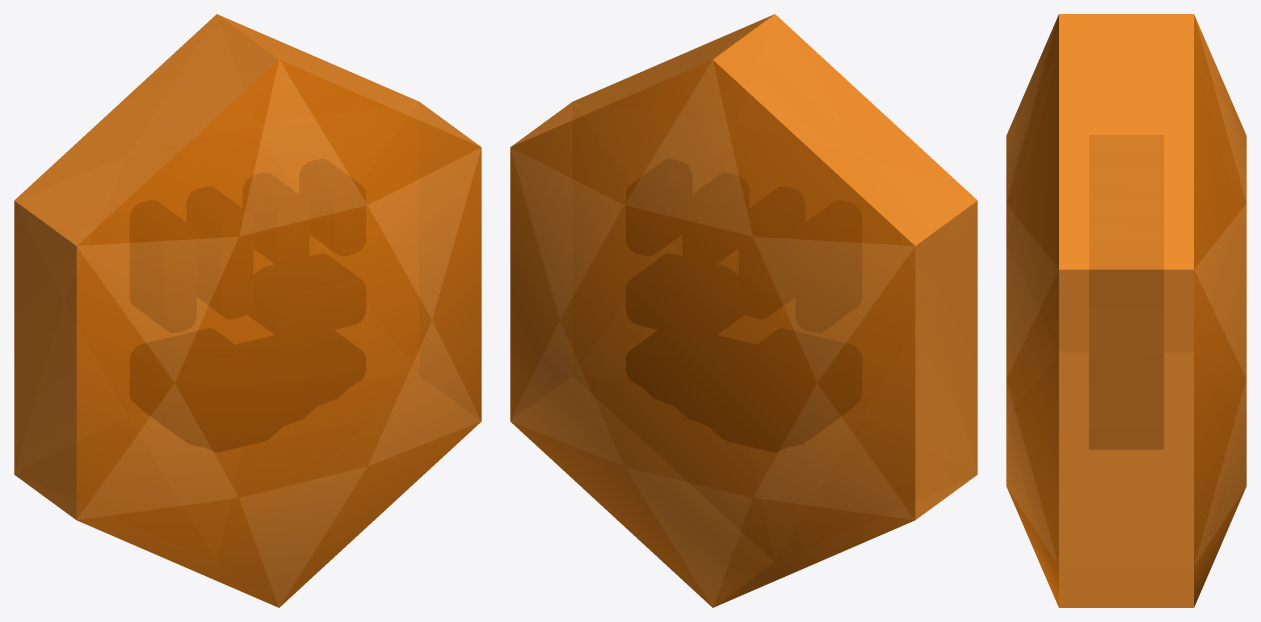
3 renders of one model, left to right at view 1: azimuth 30°, elevation 25°; view 2: azimuth 150°, elevation 25°; view 3: azimuth 270°, elevation 25°, orthographic. The views are drawn at different scales.
Parts seen in each view (by area): view 1: body; view 2: body; view 3: body.
Boxes of the visible parts, x1,y1,x2,y2 form: body: [14, 14, 481, 607]; body: [510, 14, 977, 607]; body: [1006, 14, 1246, 607].
Bounding box in the file's own units: 0.1933 × 0.25 × 0.0916.
Materials: 2 (2 with a texture image).
